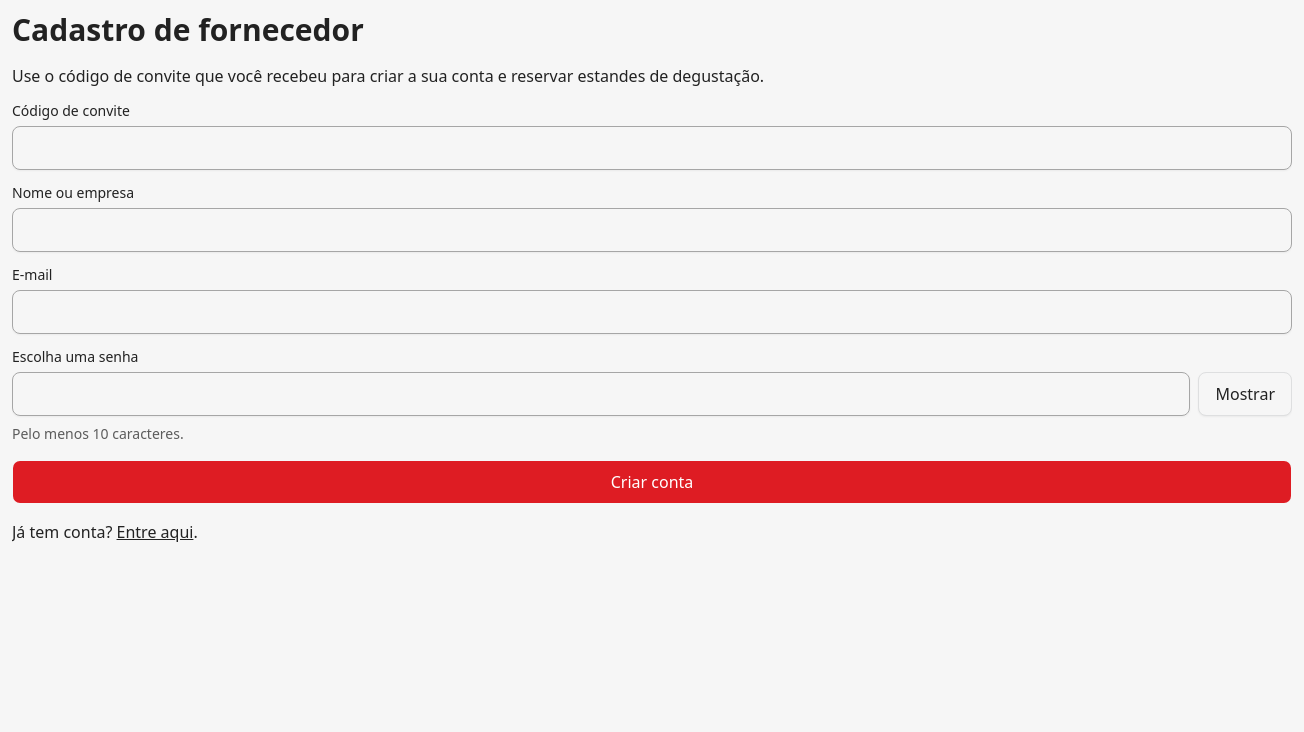
Test: cadastro com código › código errado: explica e mantém o que foi digitado
In the field labelled "Código de convite": (652, 148) [12,126,1292,170], type "AAAA-AAAA"
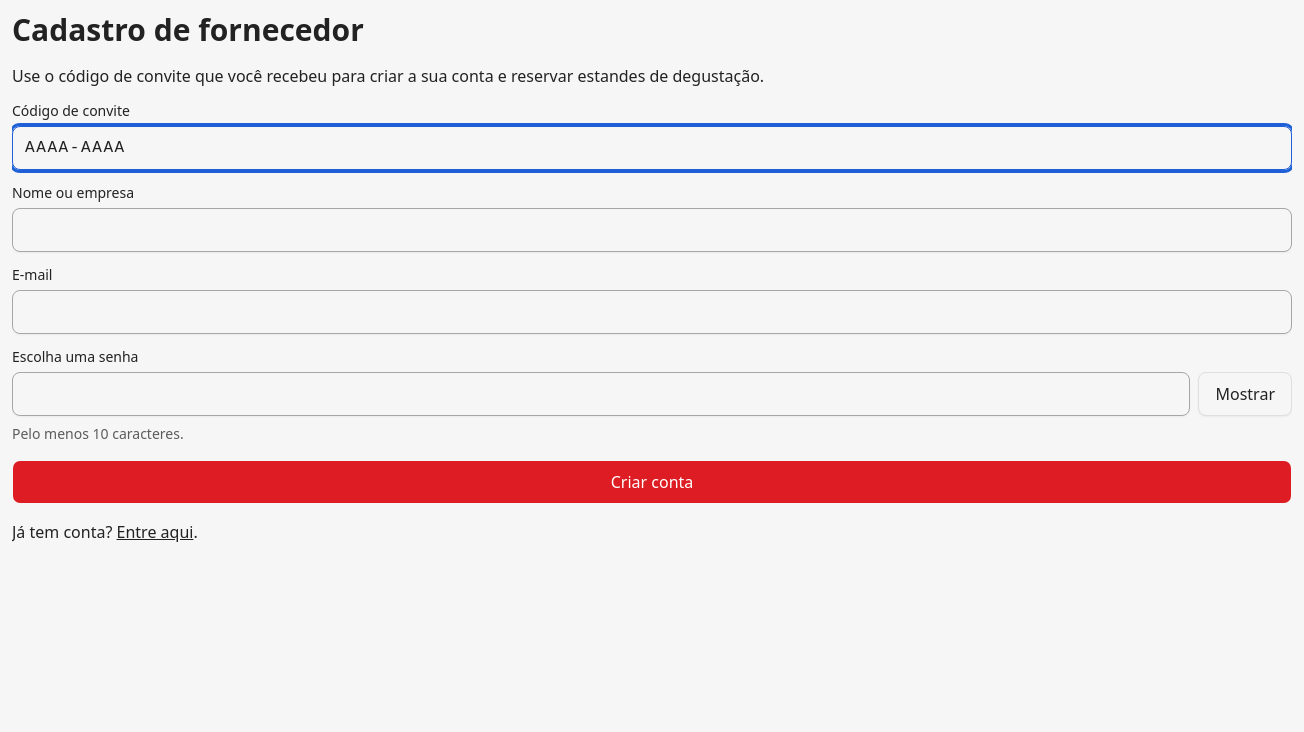
In the field labelled "Nome ou empresa": (652, 230) [12,208,1292,252], type "Loja Nova"
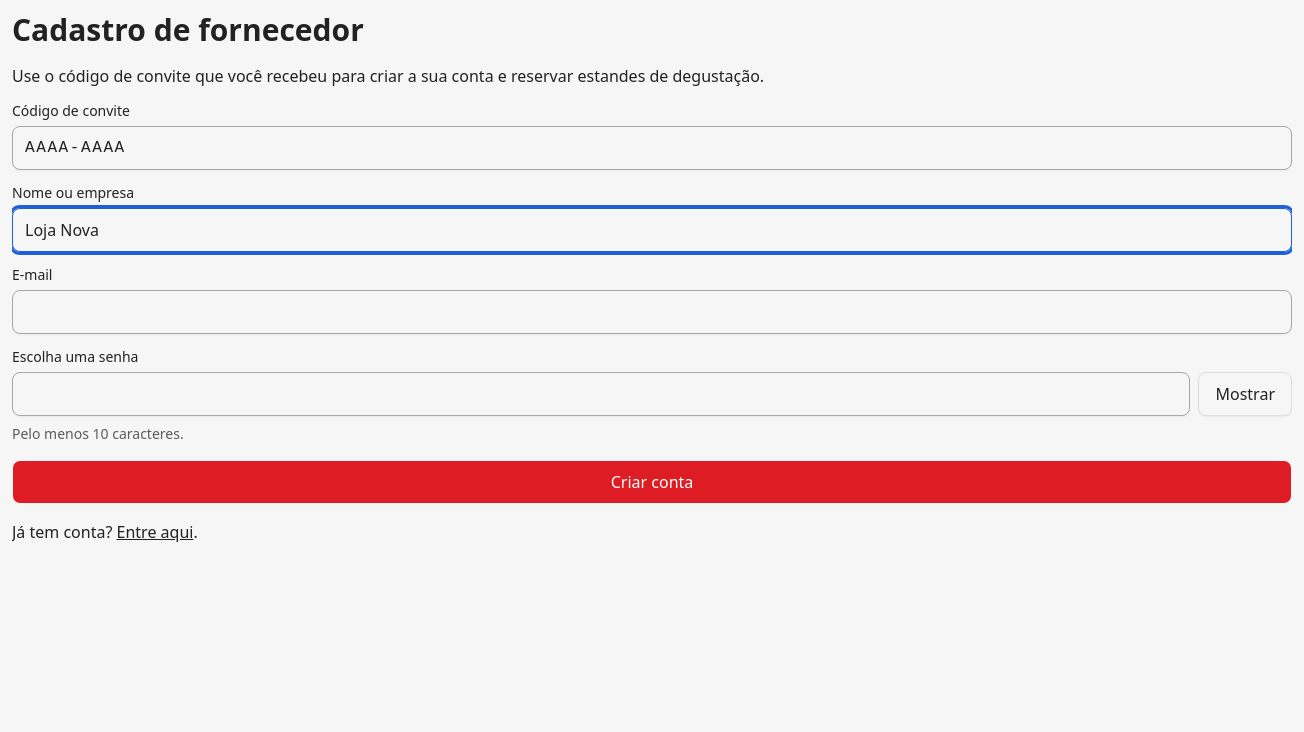
In the field labelled "E-mail": (652, 312) [12,290,1292,334], type "nova@loja.com"
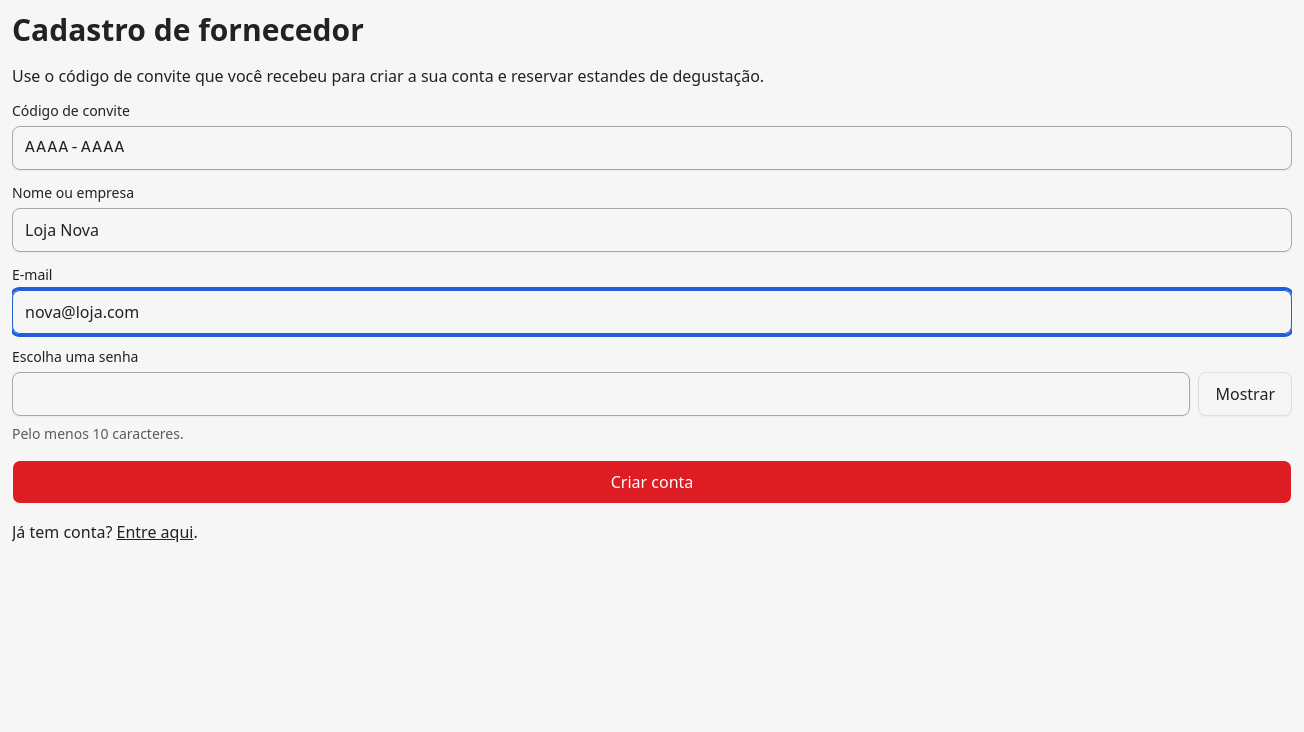
In the password field labelled "Escolha uma senha": (601, 394) [12,372,1190,416], type "uma-senha-bem-longa"
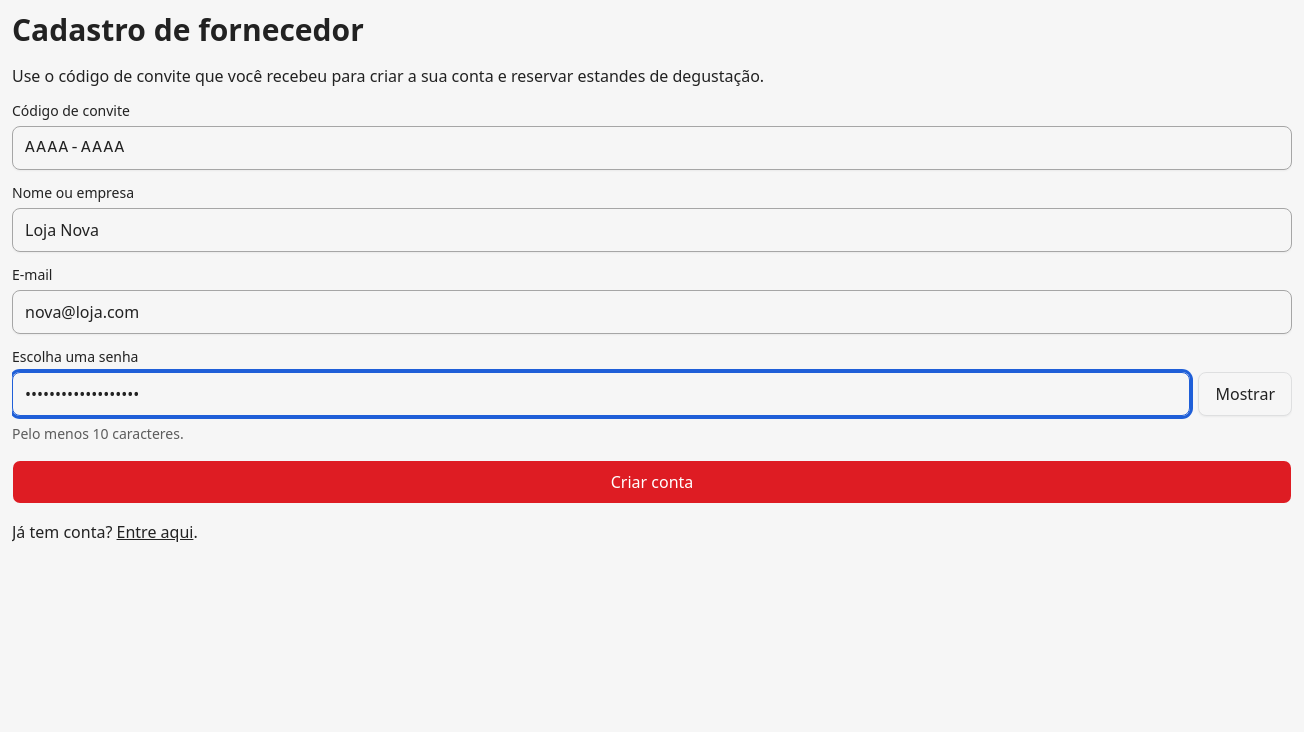
Click the button "Criar conta": (652, 482) [12,460,1292,504]
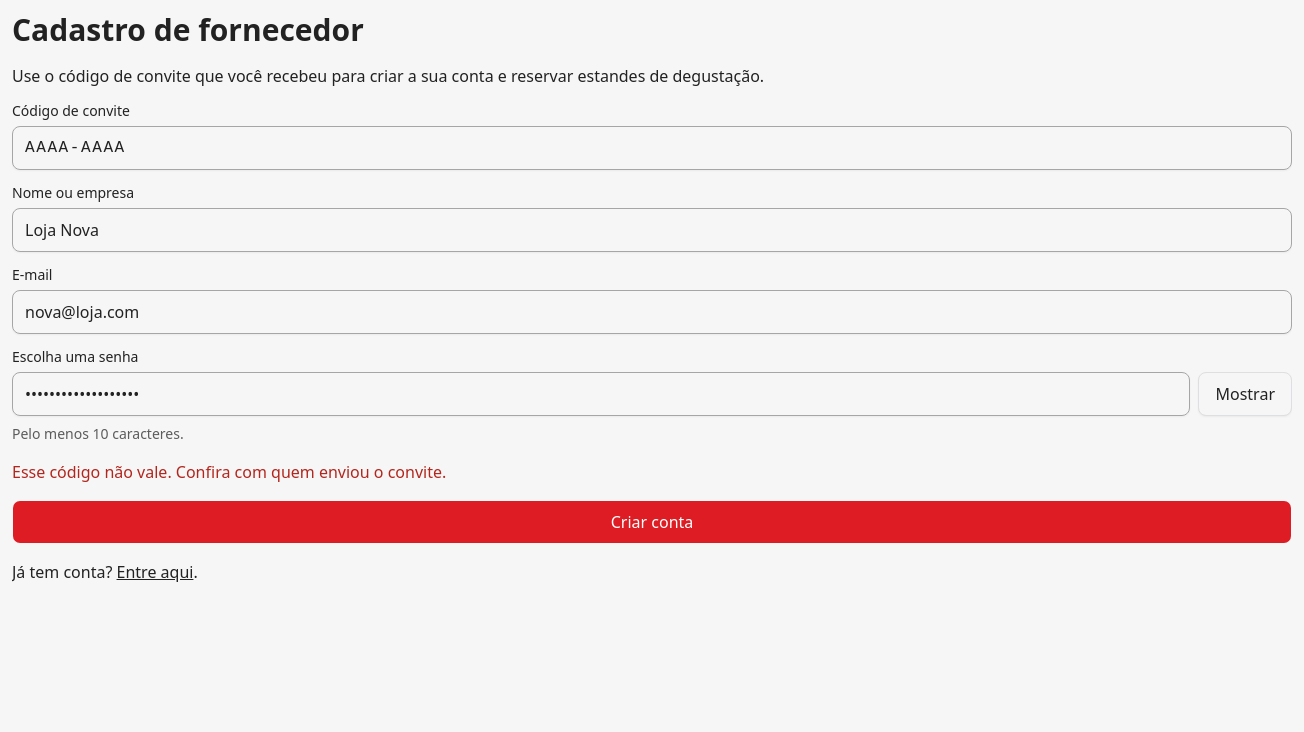
Check: the message shows "Esse código não vale", box [12,461,446,483]
